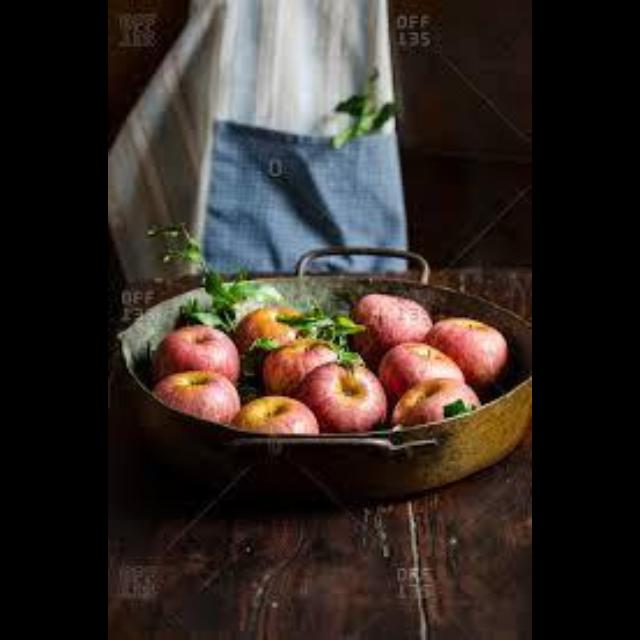apple: (296, 362, 386, 431), (351, 294, 430, 371), (426, 318, 507, 387), (377, 343, 463, 401), (152, 325, 238, 383), (152, 371, 238, 422), (391, 378, 479, 424), (263, 339, 335, 394), (233, 397, 317, 434), (233, 306, 298, 352)
